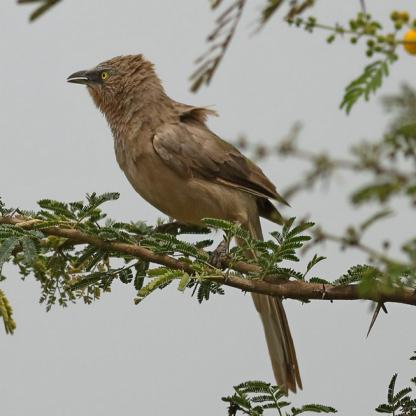Burung: (67, 54, 302, 395)
